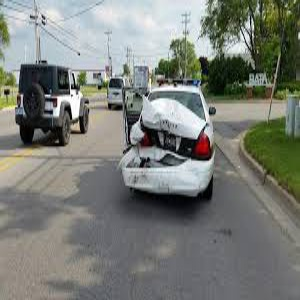bonnet: (139, 101, 203, 138)
bumper: (117, 155, 198, 200)
